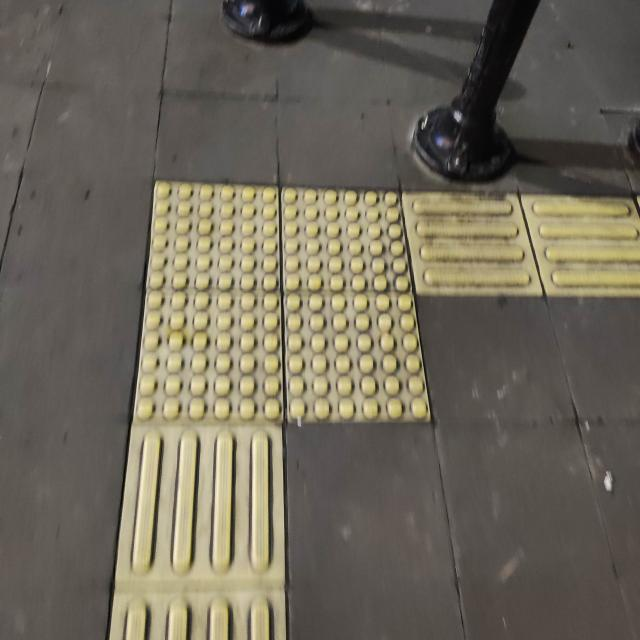kanan: (53, 144, 640, 506)
